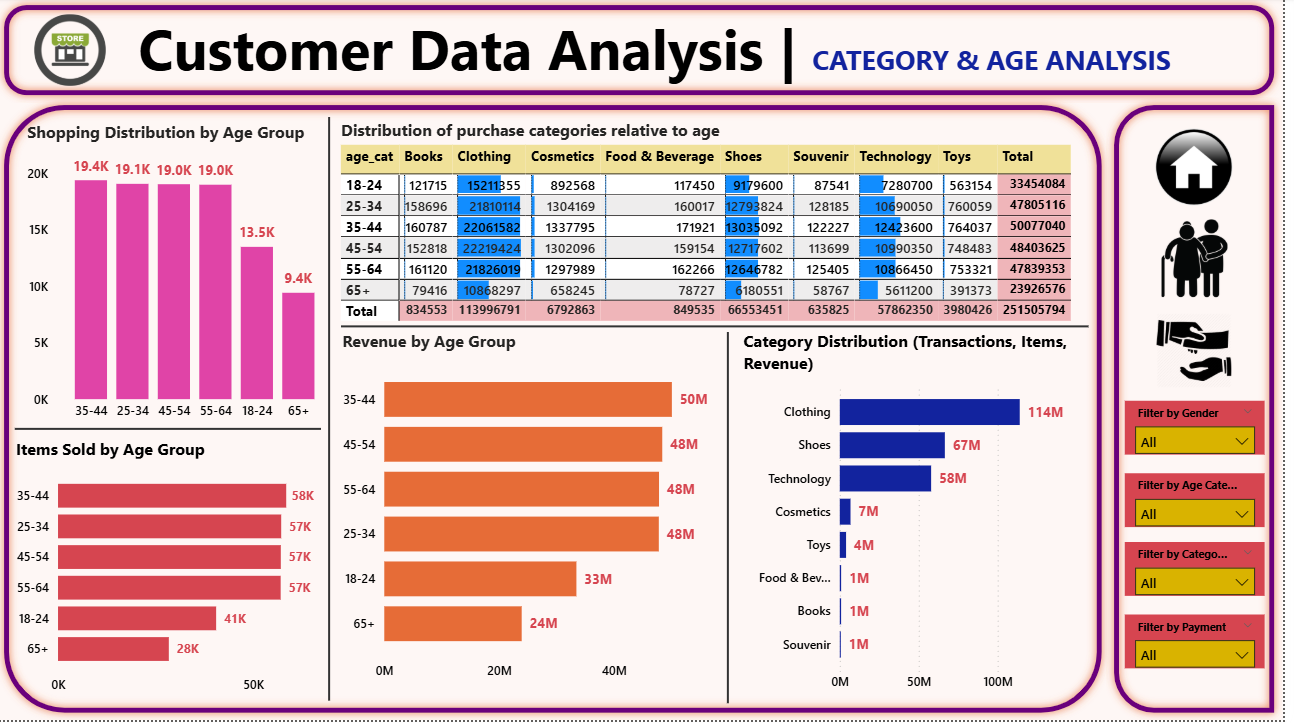

The page's visual inventory and layout, read from the dashboard file:
{"tool":"powerbi","page":{"name":"Category & Age","canvas":[1280,720],"ordinal":1},"visuals":[{"type":"shape","box":[0,99.5,1108.4,620.7],"z":0},{"type":"shape","box":[0,0,1280,105.7],"z":1000},{"type":"shape","box":[1104.6,99.5,175.4,620.7],"z":2000},{"type":"textbox","box":[136.8,7.5,1100.9,92.1],"z":3000},{"type":"image","box":[1.2,12.4,144.3,80.9],"z":4000},{"type":"clusteredColumnChart","title":"Shopping Distribution by Age Group","fields":{"Y":["customer_DA_cleaned.Transactions"],"Category":["customer_DA_cleaned.age_cat"]},"box":[26.1,123.2,313.5,307.3],"z":5000},{"type":"clusteredBarChart","title":"Revenue by Age Group","fields":{"Y":["customer_DA_cleaned.Total Revenue"],"Category":["customer_DA_cleaned.age_cat"]},"box":[339.6,330.9,389.4,358.3],"z":6000},{"type":"clusteredBarChart","title":"Category Distribution (Transactions, Items, Revenue)","fields":{"Category":["customer_DA_cleaned.category"],"Y":["Sum(customer_DA_cleaned.revenue)"]},"box":[738.9,330.9,352,369.5],"z":7000},{"type":"slicer","fields":{"Values":["customer_DA_cleaned.gender"]},"box":[1123.3,401.8,139.3,53.5],"z":8000},{"type":"slicer","fields":{"Values":["customer_DA_cleaned.age_cat"]},"box":[1123.3,473.9,139.3,53.5],"z":9000},{"type":"slicer","fields":{"Values":["customer_DA_cleaned.category"]},"box":[1123.3,542.4,139.3,53.5],"z":10000},{"type":"slicer","fields":{"Values":["customer_DA_cleaned.payment_method"]},"box":[1123.3,614.5,139.3,53.5],"z":11000},{"type":"shape","box":[343.3,301,743.9,53.5],"z":12000},{"type":"shape","box":[687.9,333.4,80.9,369.5],"z":13000},{"type":"shape","box":[291.1,119.4,80.9,580.9],"z":14000},{"type":"image","box":[1146.9,121.9,89.6,92.1],"z":15000},{"type":"image","box":[1146.9,309.7,90.8,84.6],"z":16000},{"type":"image","box":[1151.9,216.4,82.1,87.1],"z":17000},{"type":"actionButton","box":[1142,128.1,99.5,85.8],"z":18000},{"type":"actionButton","box":[1142,217.7,99.5,85.8],"z":19000},{"type":"actionButton","box":[1142,308.5,99.5,85.8],"z":20000},{"type":"pivotTable","title":"Distribution of purchase categories relative to age","fields":{"Rows":["customer_DA_cleaned.age_cat"],"Columns":["customer_DA_cleaned.category"],"Values":["customer_DA_cleaned.Total Revenue"]},"box":[338.4,120.7,746.4,210.2],"z":21000},{"type":"clusteredBarChart","title":"Items Sold by Age Group","fields":{"Category":["customer_DA_cleaned.age_cat"],"Y":["customer_DA_cleaned.Total Quantity"]},"box":[14.9,437.9,317.2,265],"z":22000},{"type":"shape","box":[18.7,403,304.8,53.5],"z":23000}]}

Visuals, with their boxes in screenshot pixels (x1, y1, x2, y2), scaled from the page's 1280x720 canvas onto the 1294x723 screenshot:
shape: 0:100:1121:722
shape: 0:0:1293:106
shape: 1117:100:1293:722
textbox: 138:8:1251:100
image: 1:12:147:94
"Shopping Distribution by Age Group" clusteredColumnChart: 26:124:343:432
"Revenue by Age Group" clusteredBarChart: 343:332:737:692
"Category Distribution (Transactions, Items, Revenue)" clusteredBarChart: 747:332:1103:703
slicer - customer_DA_cleaned.gender: 1136:403:1276:457
slicer - customer_DA_cleaned.age_cat: 1136:476:1276:530
slicer - customer_DA_cleaned.category: 1136:545:1276:598
slicer - customer_DA_cleaned.payment_method: 1136:617:1276:671
shape: 347:302:1099:356
shape: 695:335:777:706
shape: 294:120:376:703
image: 1159:122:1250:215
image: 1159:311:1251:396
image: 1164:217:1247:305
actionButton: 1154:129:1255:215
actionButton: 1154:219:1255:305
actionButton: 1154:310:1255:396
"Distribution of purchase categories relative to age" pivotTable: 342:121:1097:332
"Items Sold by Age Group" clusteredBarChart: 15:440:336:706
shape: 19:405:327:458
